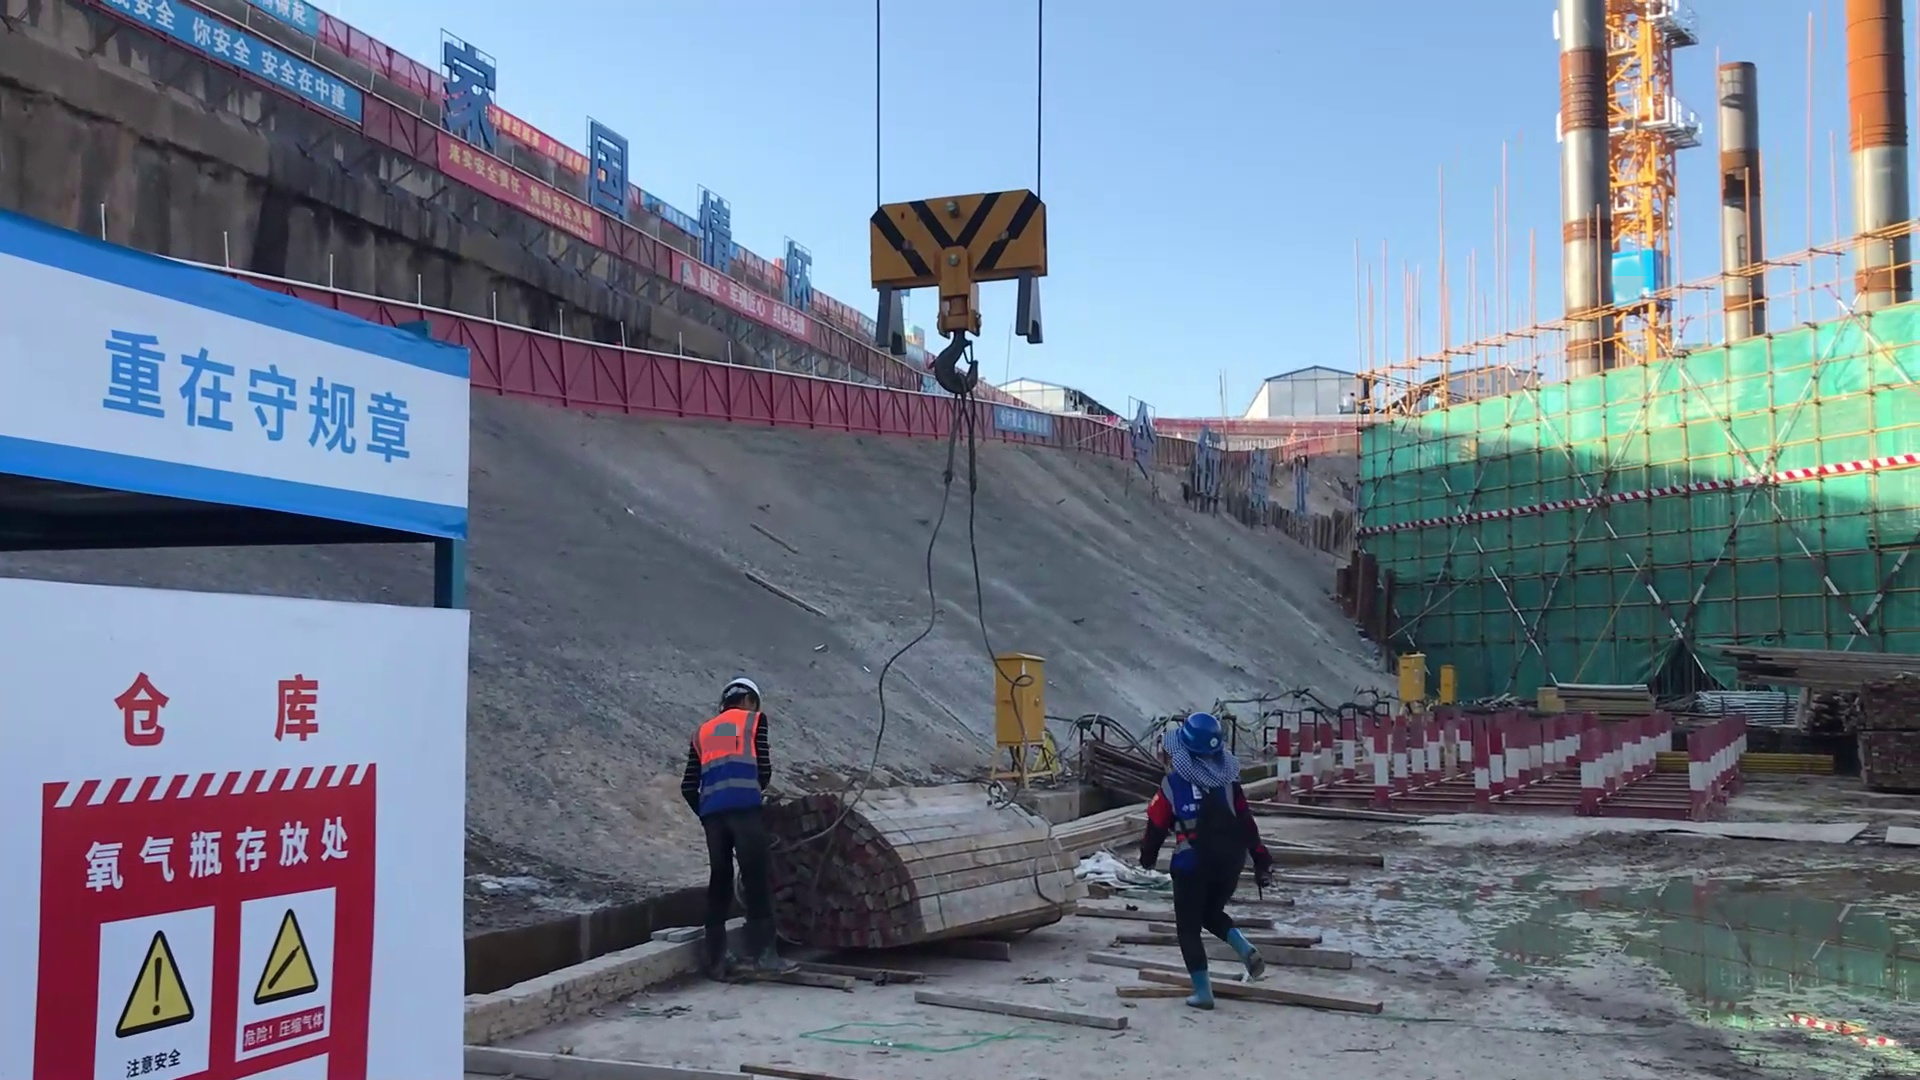ebox: (988, 650, 1070, 775), (1395, 652, 1427, 709), (1434, 663, 1460, 713)
fence: (457, 312, 850, 425), (845, 375, 971, 439)
helmet: (1169, 715, 1236, 775), (717, 670, 761, 713)
hook: (877, 164, 1049, 348)
person: (1140, 711, 1288, 1004), (667, 667, 797, 965)
slogan: (17, 746, 394, 1080), (85, 280, 448, 493), (83, 1, 378, 174), (433, 122, 608, 263)
vest: (686, 708, 762, 761)
wood: (808, 775, 1070, 961), (1723, 637, 1920, 706)
